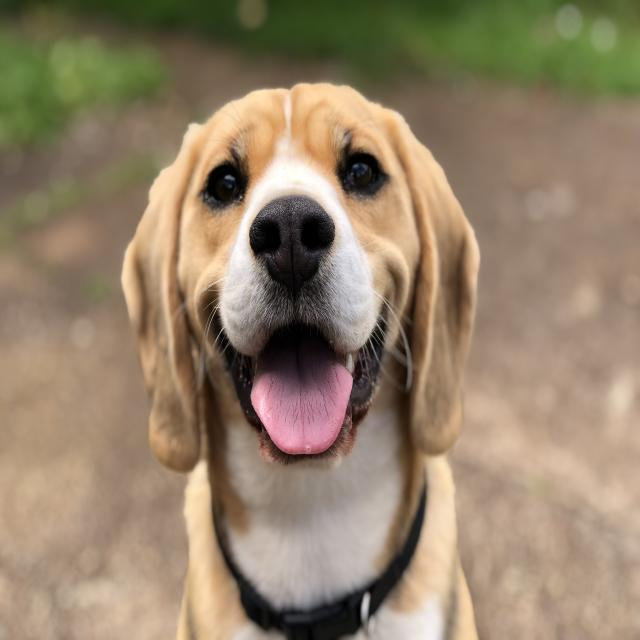Dog: (113, 71, 494, 640)
